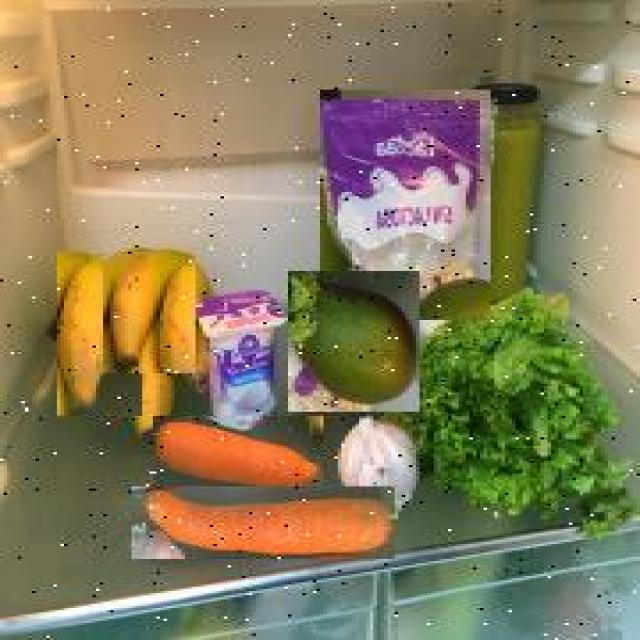banana: (57, 252, 142, 416), (103, 245, 196, 374)
carrot: (134, 486, 396, 559), (153, 416, 323, 486)
garlic: (332, 411, 428, 526)
grated_cheese: (320, 90, 491, 320)
mango: (288, 271, 420, 412)
salad: (409, 282, 615, 524)
yogurt: (192, 293, 288, 430)
